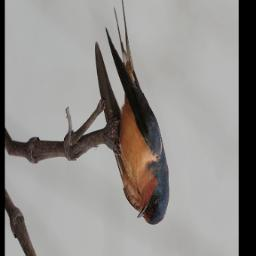Swallow: (68, 0, 202, 240)
